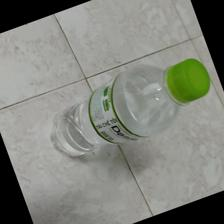Dasani: (49, 58, 213, 160)
